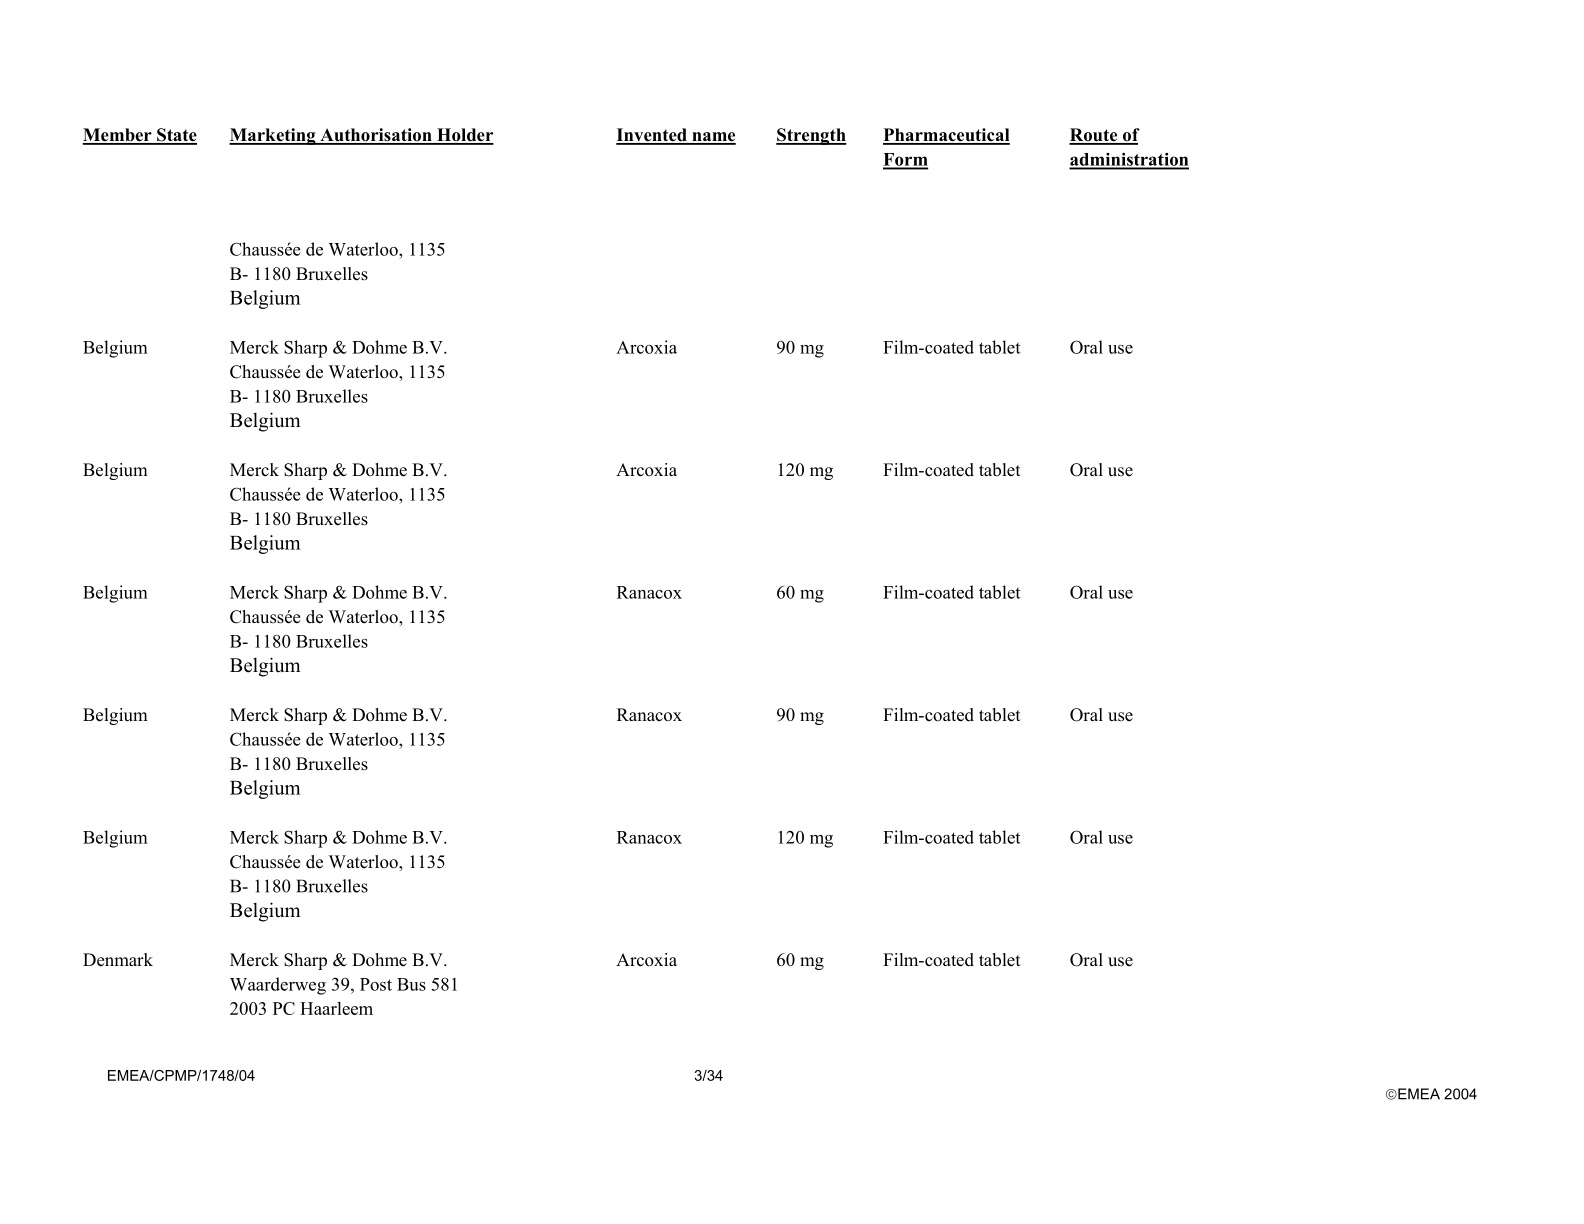nolines: (77, 120, 1192, 1023)
